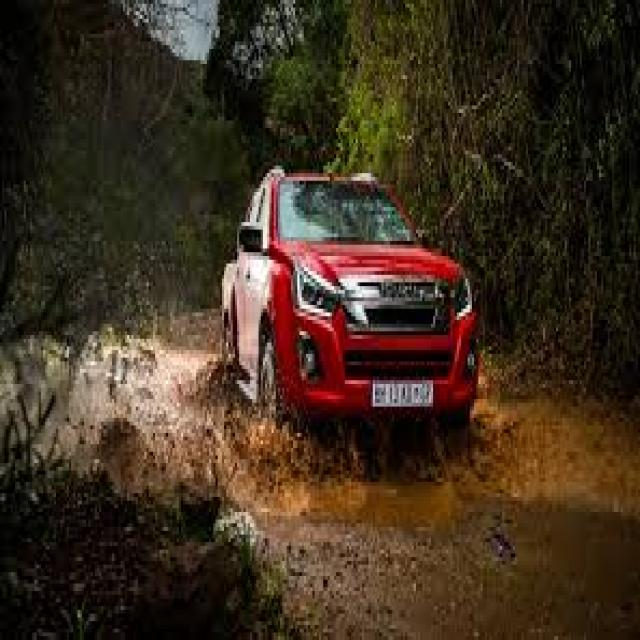Pickup Trucks: (211, 162, 483, 448)
